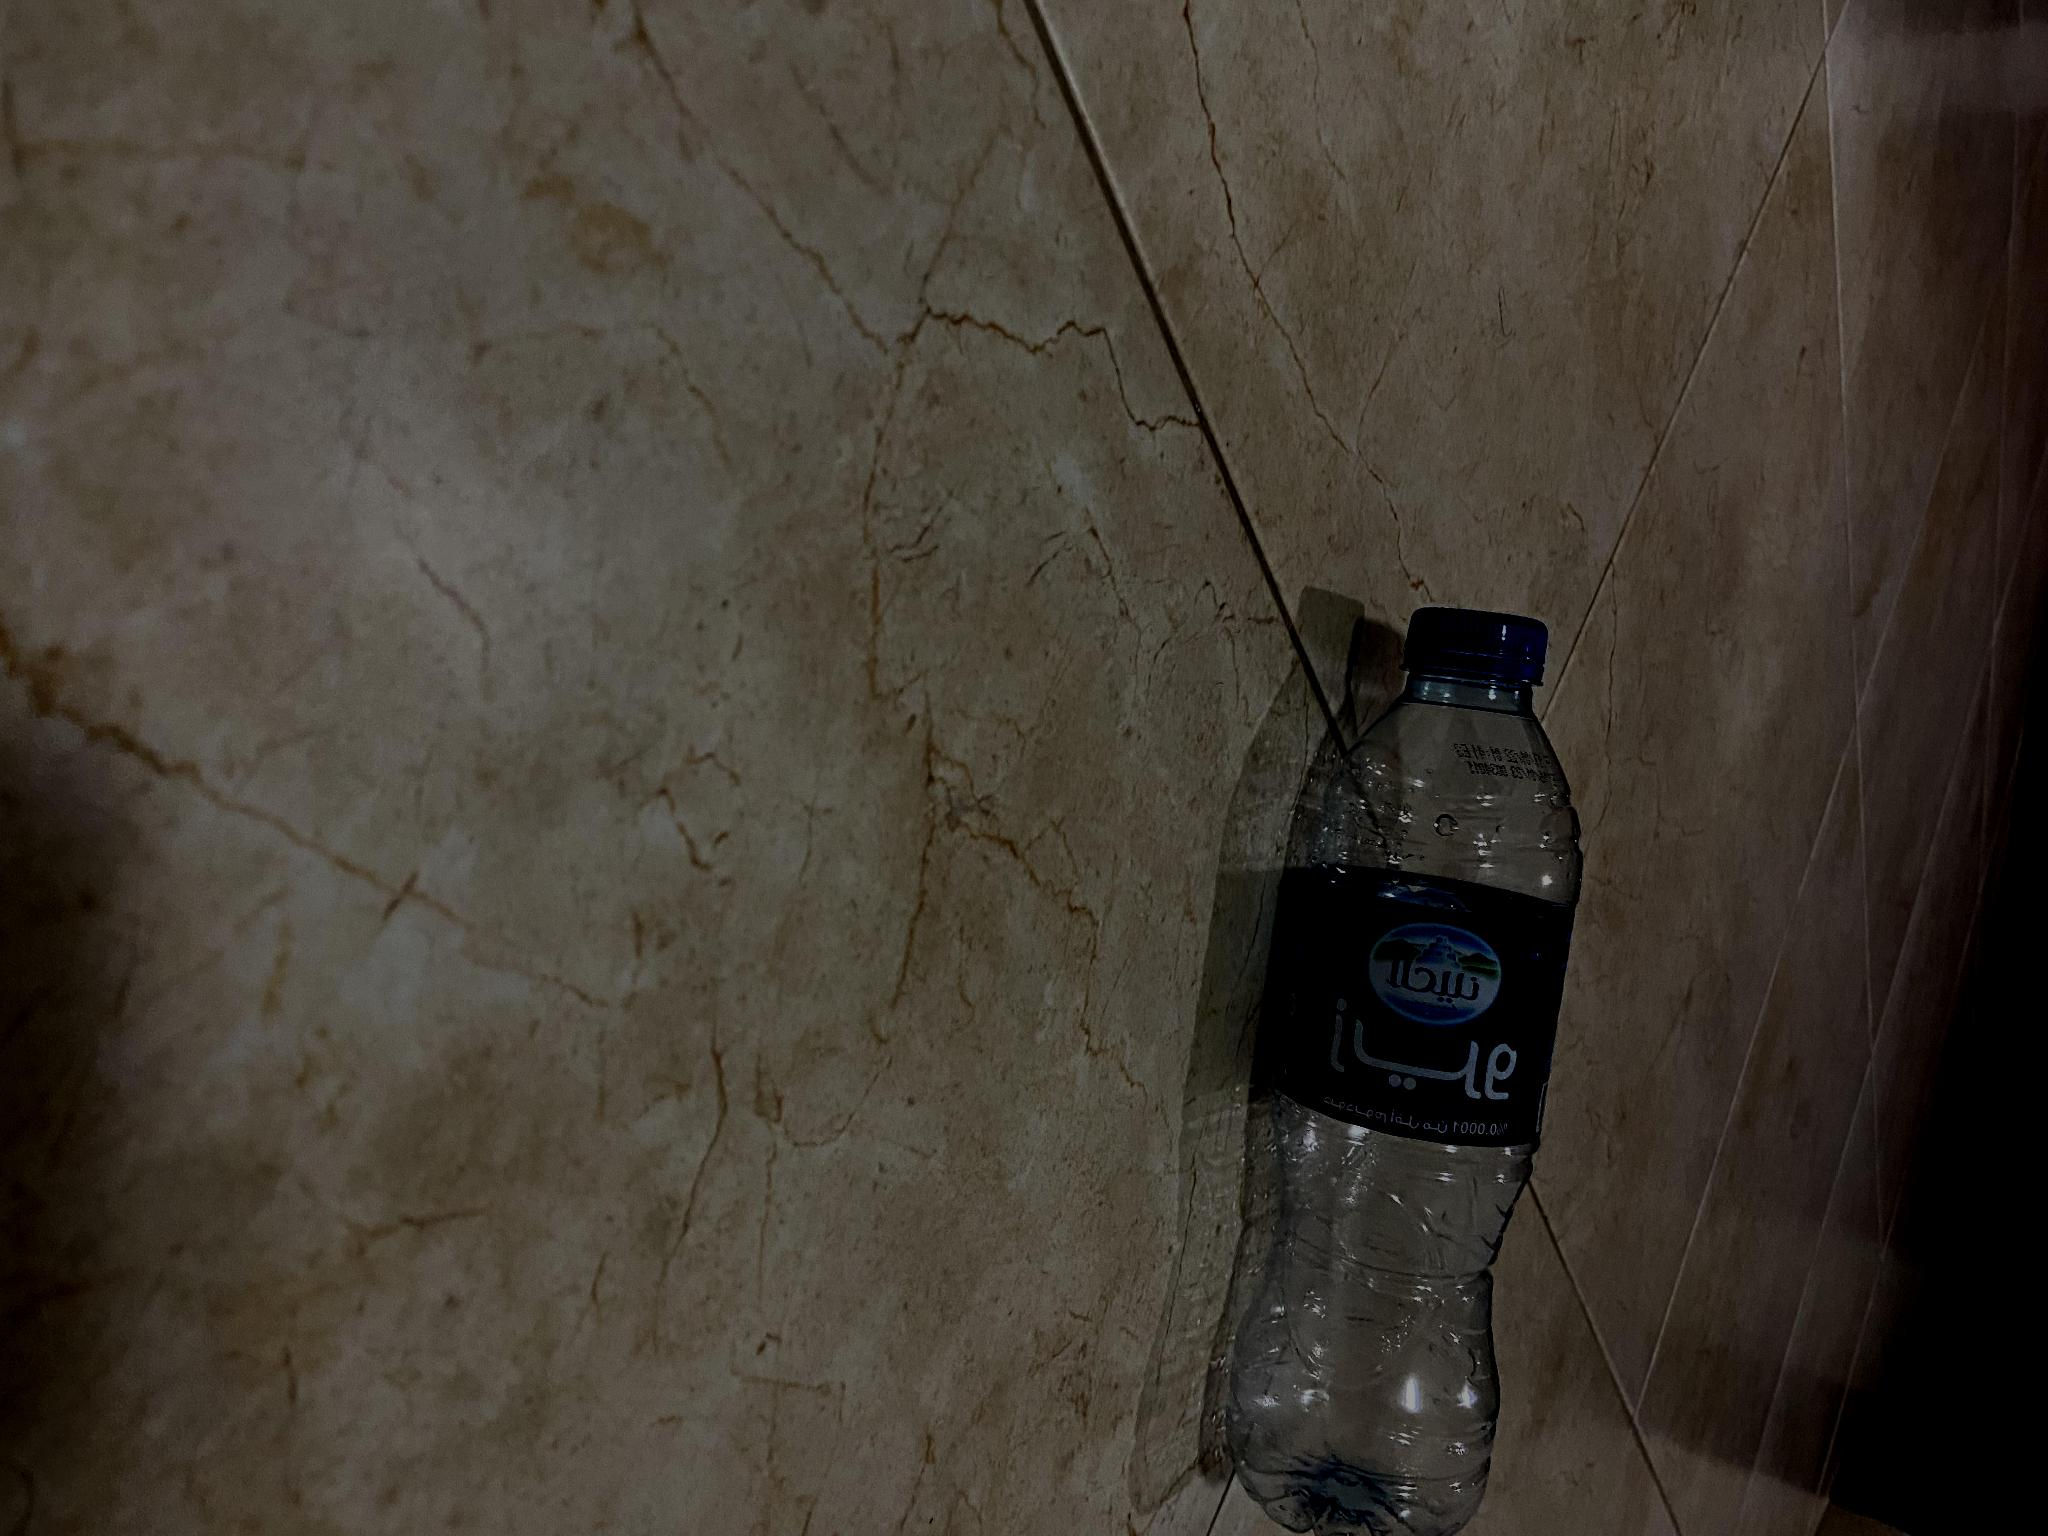bottle: (1206, 599, 1601, 1536)
